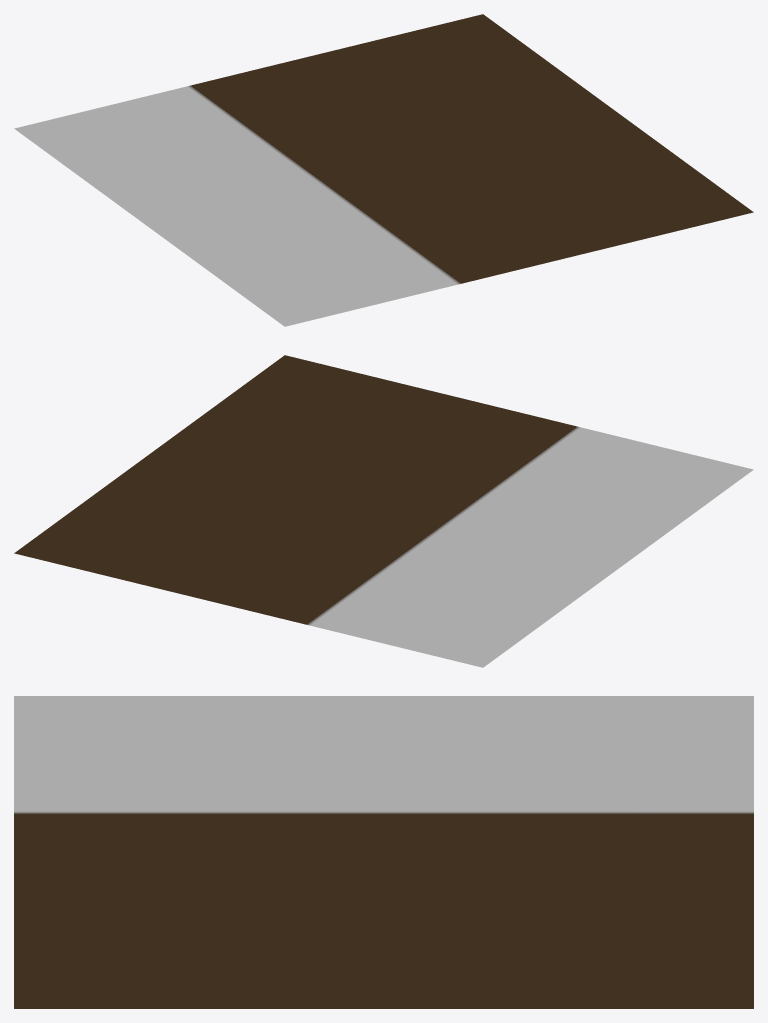
Rendered from Terrain_01.fbx.
3 renders of one model, top to bottom at view 1: azimuth 30°, elevation 25°; view 2: azimuth 150°, elevation 25°; view 3: azimuth 270°, elevation 25°, orthographic. The views are drawn at different scales.
Visible parts, largest first — view 1: Terrain_01; view 2: Terrain_01; view 3: Terrain_01.
Boxes of the visible parts, <box> form: Terrain_01: <box>14,14,753,326</box>; Terrain_01: <box>14,355,753,667</box>; Terrain_01: <box>14,696,753,1008</box>.
Size of the model in its own units: 128 by 4.17e-05 by 128.
